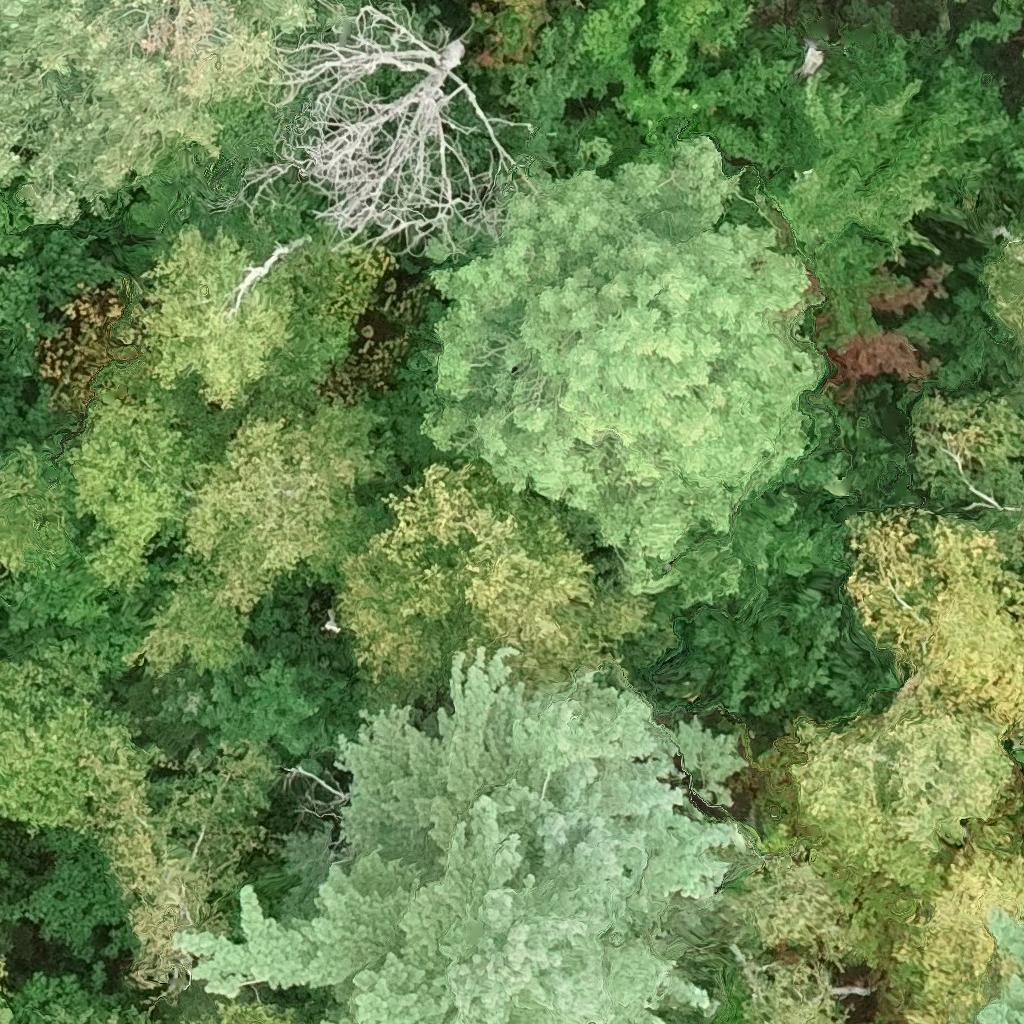crown: (430, 133, 824, 592), (124, 401, 395, 676), (0, 0, 316, 216), (255, 7, 516, 258), (767, 69, 922, 254), (144, 226, 291, 408), (575, 0, 750, 138), (900, 218, 1023, 404), (72, 398, 190, 588), (896, 58, 1008, 164), (0, 445, 57, 569), (470, 0, 544, 93), (0, 178, 56, 257), (960, 0, 1023, 47)
